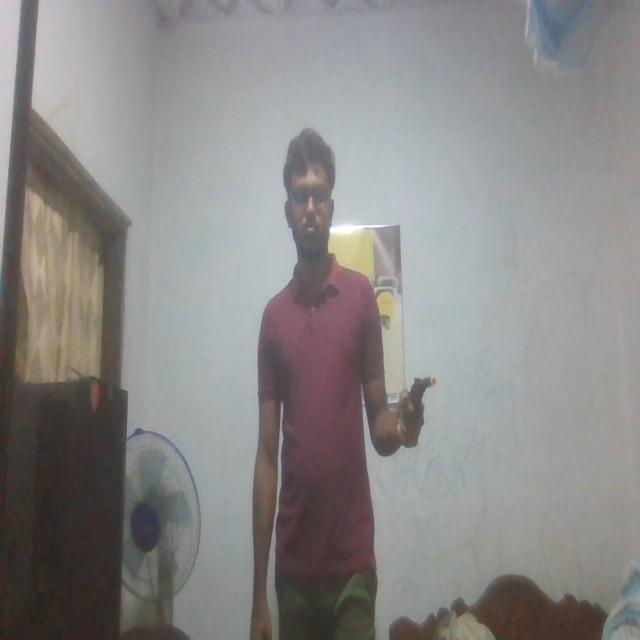Gun_Holder: (399, 368, 443, 439)
Person: (251, 126, 422, 640)
